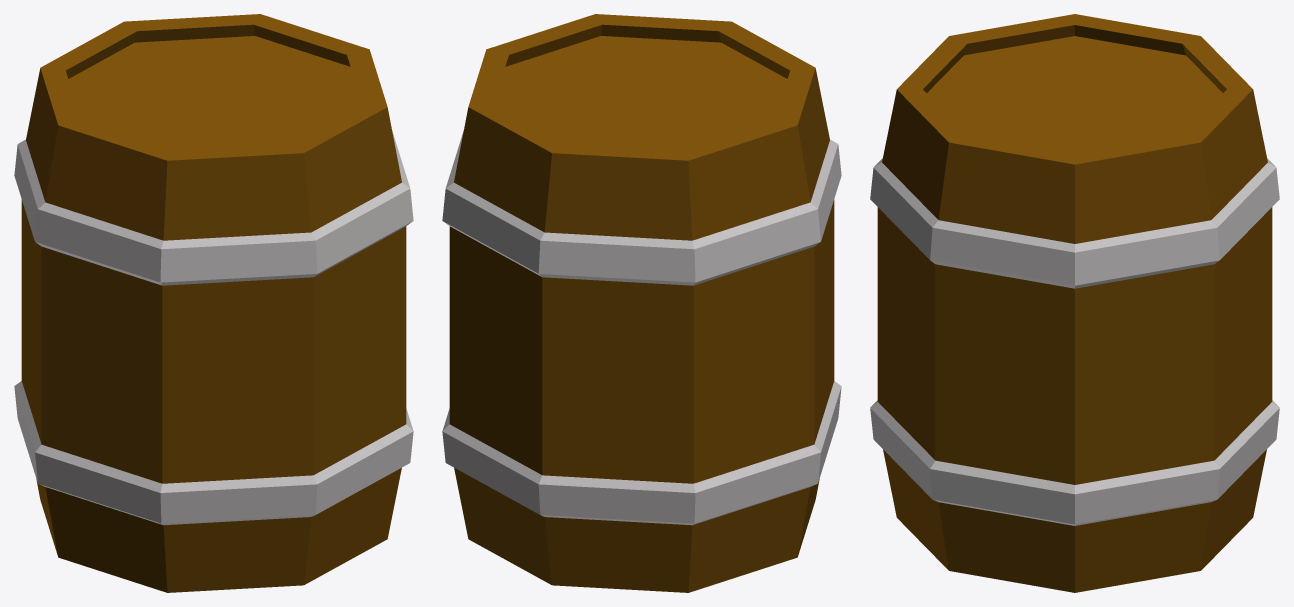
Rendered from mesh_barrel.fbx.
3 views of the same model, side by side, from view 1: azimuth 30°, elevation 25°; view 2: azimuth 150°, elevation 25°; view 3: azimuth 270°, elevation 25° (orthographic).
Parts seen in each view (by area): view 1: Barrel; view 2: Barrel; view 3: Barrel.
Boxes of the visible parts, box(x1,y1,x2,y2) form: Barrel: box(14, 14, 413, 592); Barrel: box(442, 14, 841, 592); Barrel: box(870, 14, 1279, 592).
Bounding box in the file's own units: 0.6592 × 0.7605 × 0.6592.
